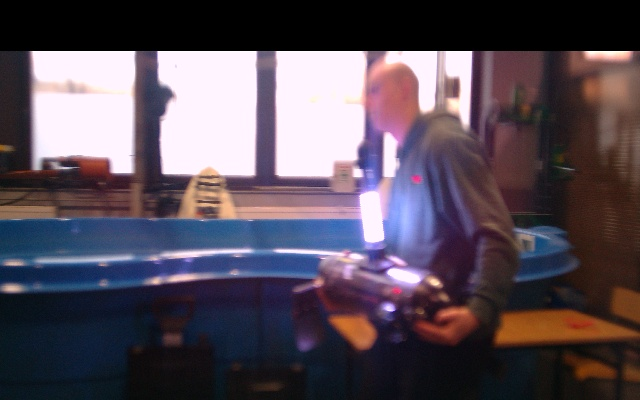white: (360, 191, 384, 245)
